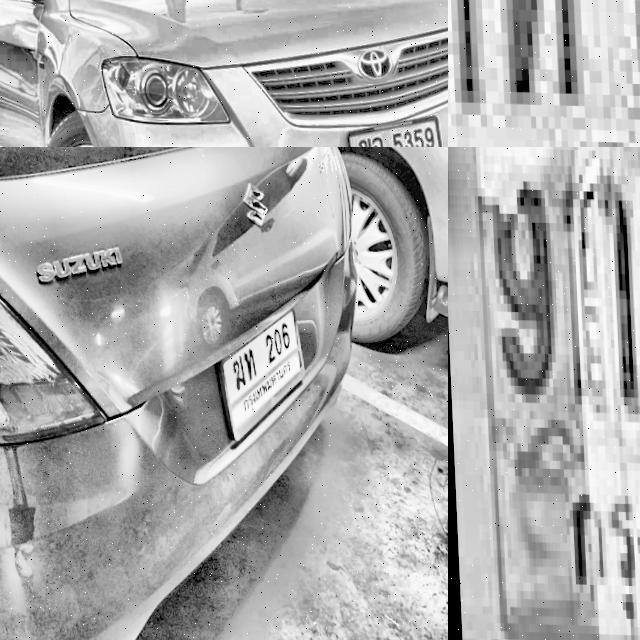license-plate: (448, 147, 640, 640), (448, 0, 640, 147), (208, 299, 306, 449), (341, 109, 441, 147)
